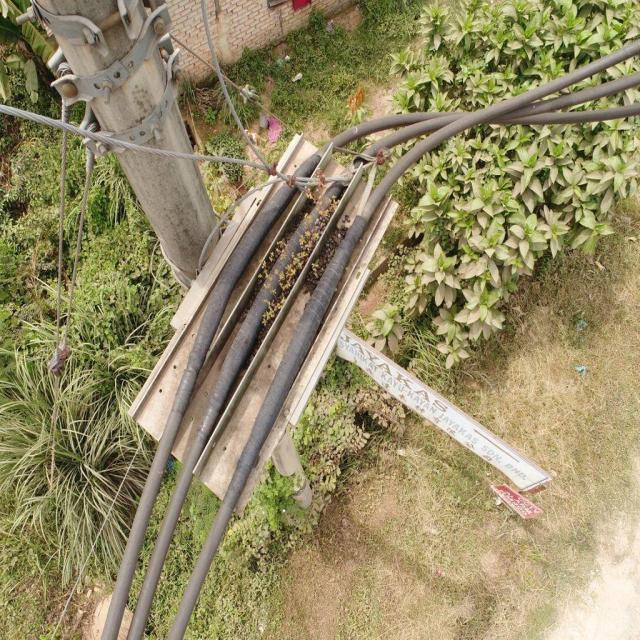critical vegetation: (246, 174, 350, 329)
